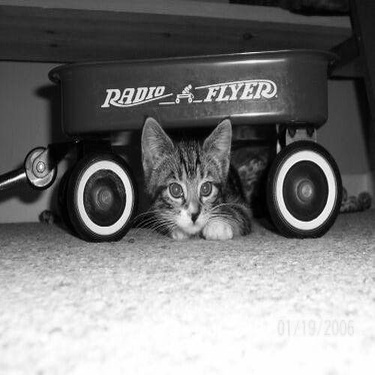cat: (58, 102, 372, 248)
